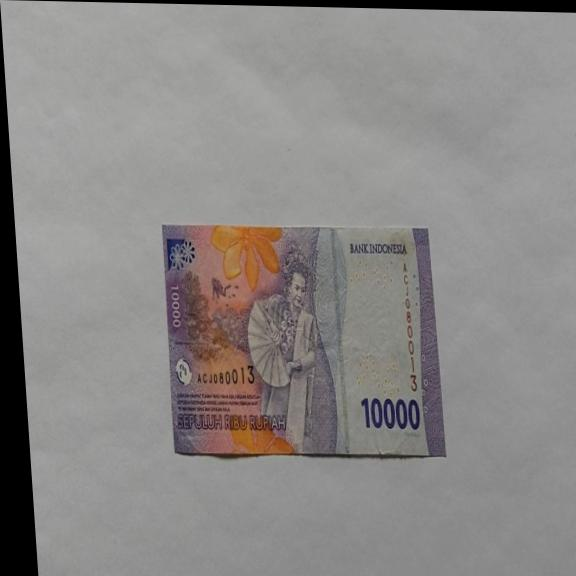Kertas: (158, 221, 446, 462), (359, 394, 422, 432)
